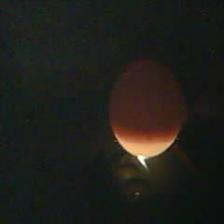fertile: (104, 54, 187, 162)
